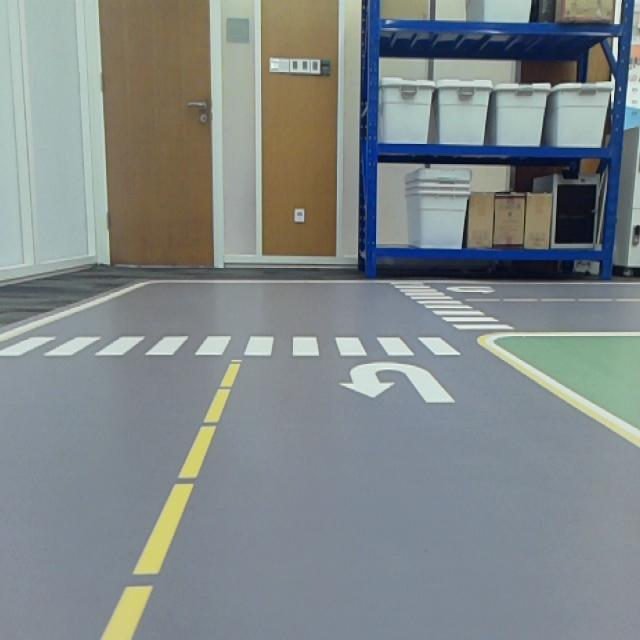left_lane: (101, 359, 241, 640)
right_lane: (479, 342, 638, 447), (0, 282, 146, 345)
